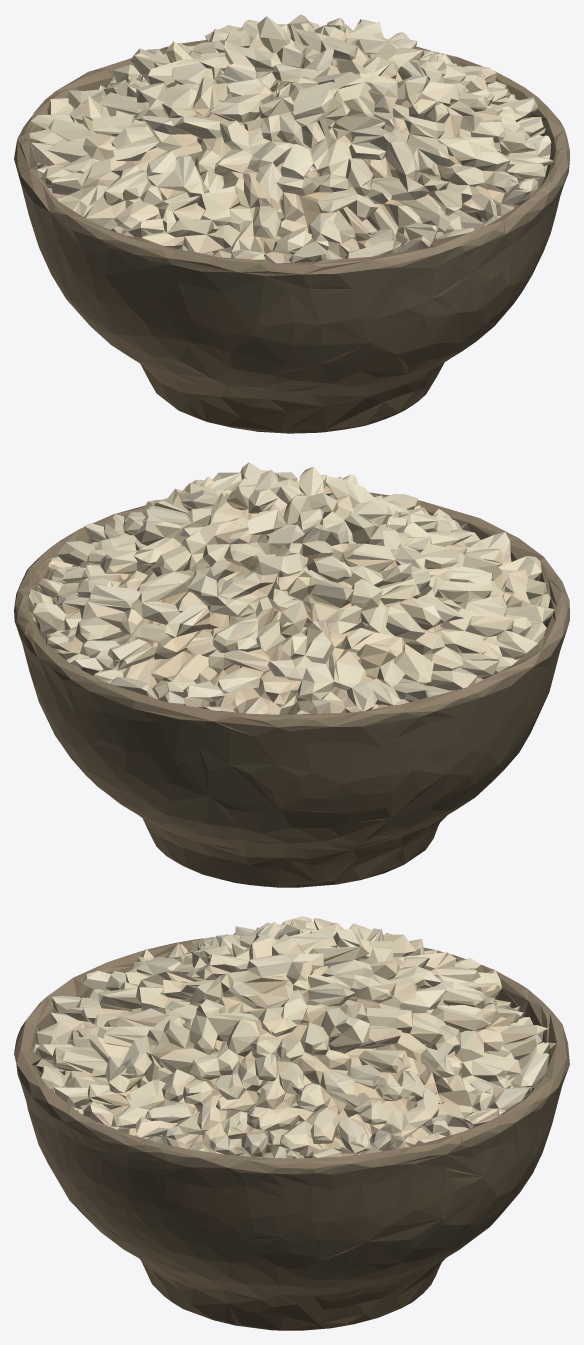
Rendered from rice.glb.
The picture shows the model from 3 angles, top to bottom: view 1: azimuth 30°, elevation 25°; view 2: azimuth 150°, elevation 25°; view 3: azimuth 270°, elevation 25°; orthographic projection.
Parts seen in each view (by area): view 1: geometry_0; view 2: geometry_0; view 3: geometry_0.
Part boxes in pixels (<box>): geometry_0: <box>14,14,569,433</box>; geometry_0: <box>14,462,569,887</box>; geometry_0: <box>14,916,569,1330</box>.
Size of the model in its own units: 0.13 by 0.0852 by 0.1297.
Materials: 1 (1 with a texture image).
